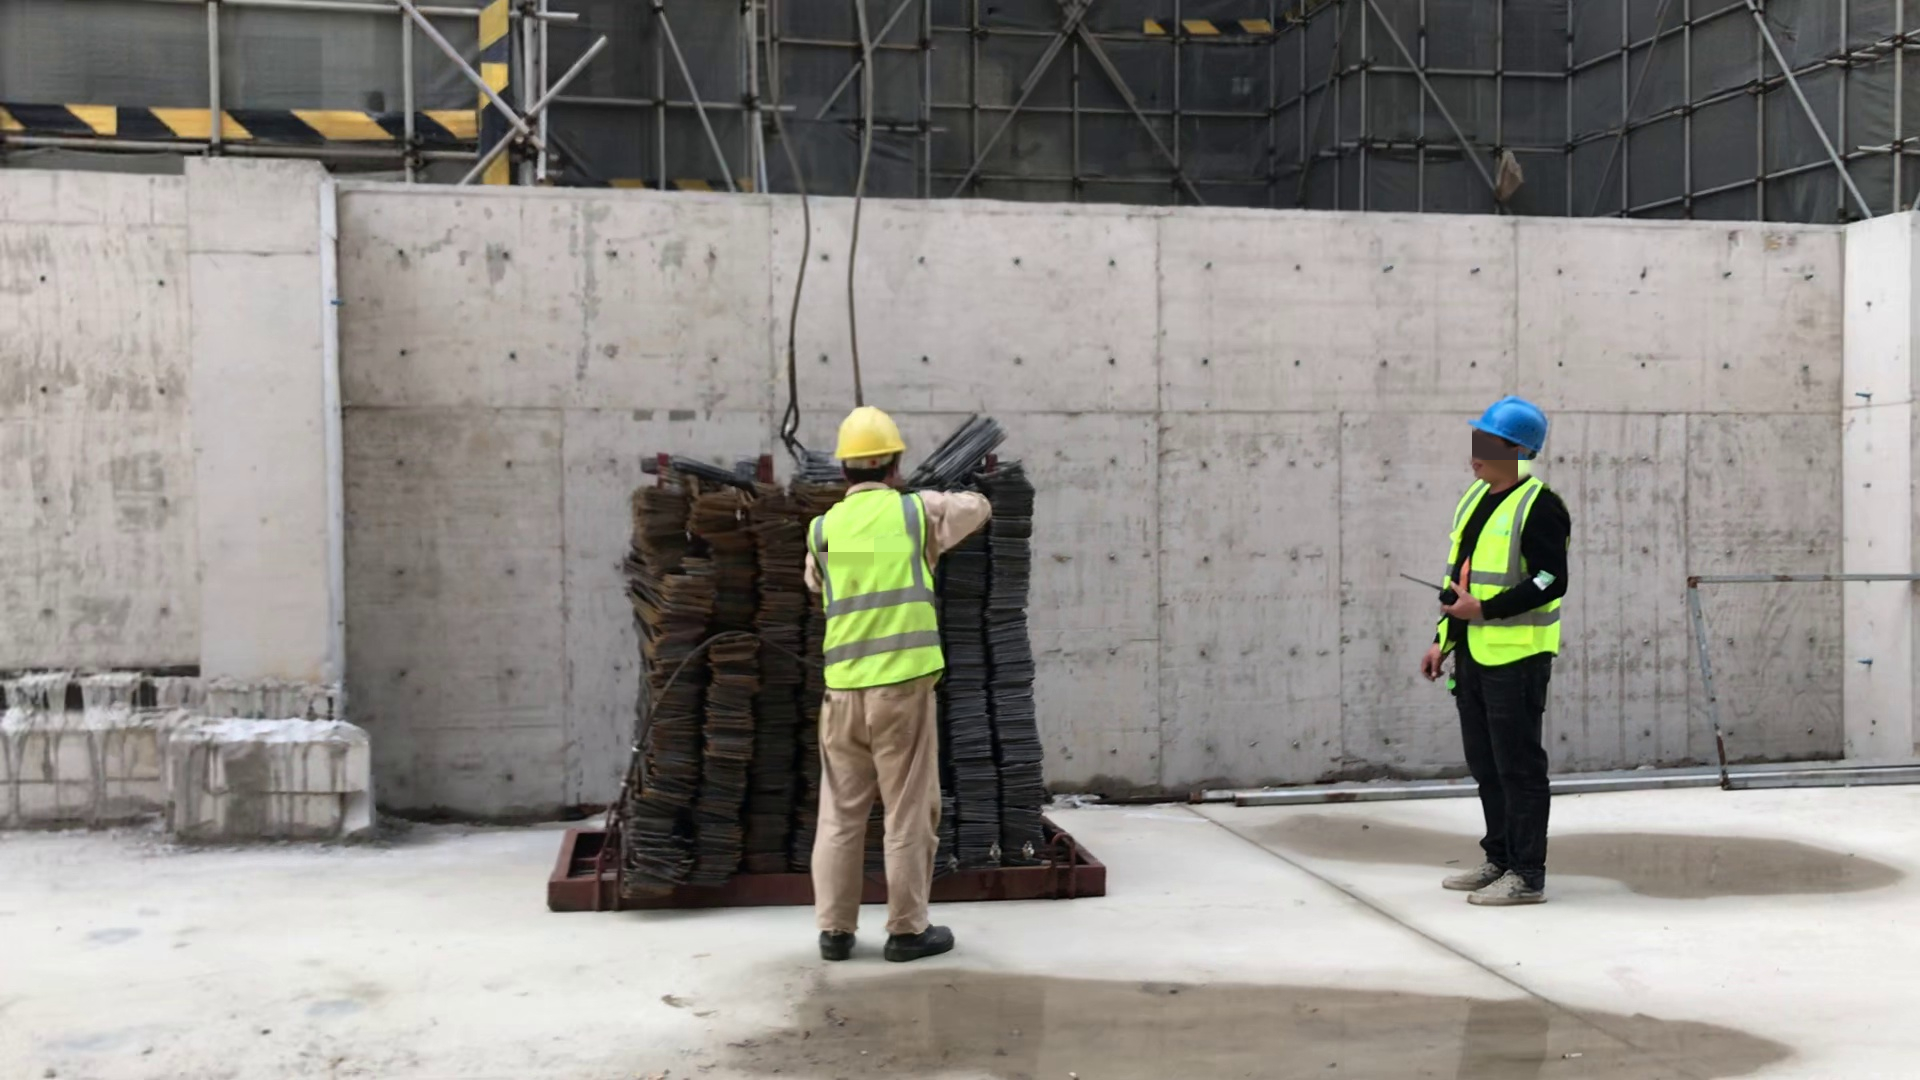helmet: (1474, 381, 1555, 454), (825, 403, 910, 456)
person: (796, 405, 987, 959), (1440, 377, 1568, 907)
vest: (807, 494, 961, 671), (1451, 475, 1565, 663)
